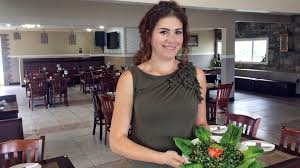middle_eastern_Female: (151, 17, 188, 63)
